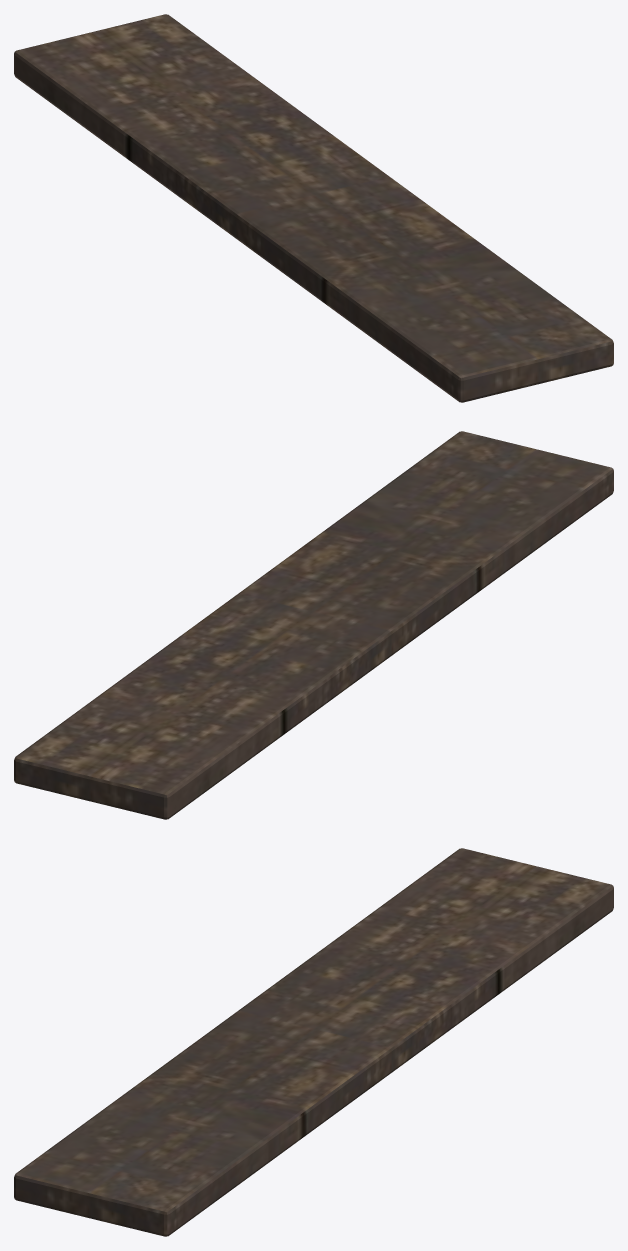
File: plank.glb
3 renders of one model, top to bottom at view 1: azimuth 30°, elevation 25°; view 2: azimuth 150°, elevation 25°; view 3: azimuth 330°, elevation 25°, orthographic.
Parts seen in each view (by area): view 1: p; view 2: p; view 3: p.
Part boxes in pixels (x1,y1,x2,y2): p: [14, 14, 613, 402]; p: [14, 431, 613, 819]; p: [14, 848, 613, 1236].
Size of the model in its own units: 0.18 by 0.03 by 0.9.
1 material, 1 textured.
